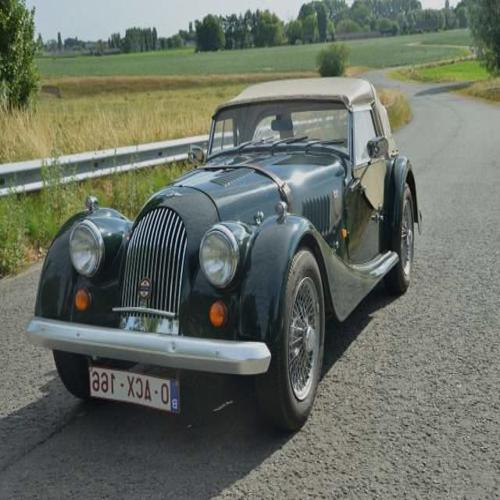plate: (80, 357, 184, 416)
